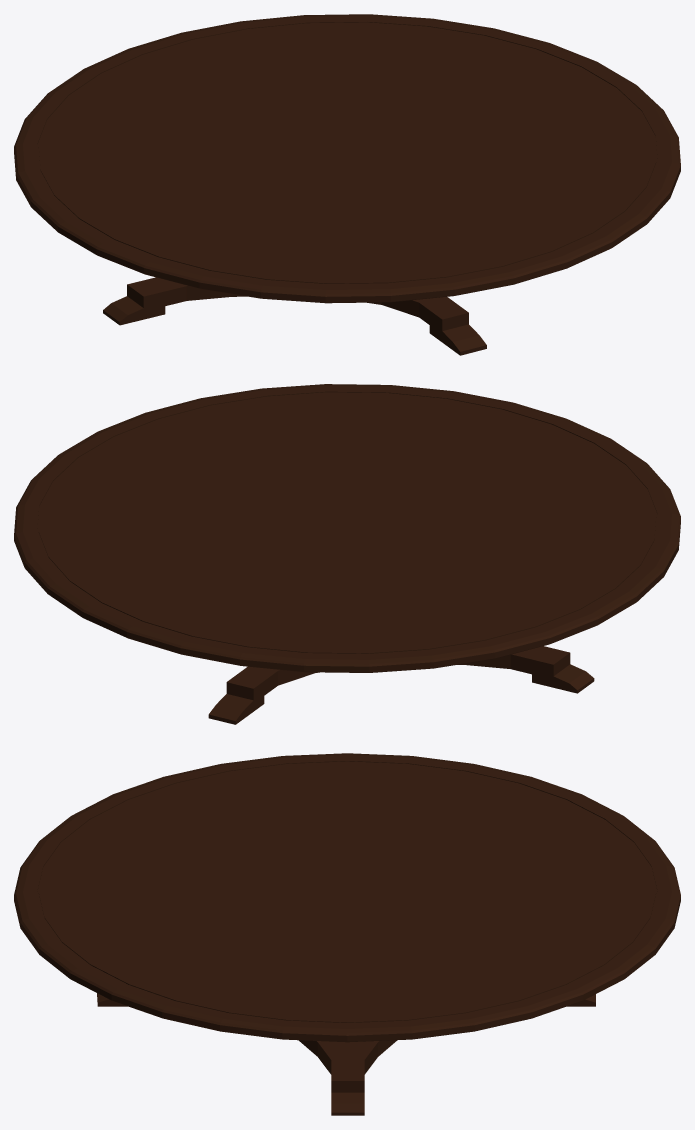
The model's file is bigger round table.fbx.
3 views of the same model, one above another, from view 1: azimuth 30°, elevation 25°; view 2: azimuth 150°, elevation 25°; view 3: azimuth 270°, elevation 25° (orthographic).
Visible parts, largest first — view 1: Cube; view 2: Cube; view 3: Cube.
Boxes of the visible parts, x1,y1,x2,y2 form: Cube: [14, 14, 680, 355]; Cube: [14, 384, 680, 724]; Cube: [14, 753, 680, 1115].
Bounding box in the file's own units: 372 × 372 × 66.29.
